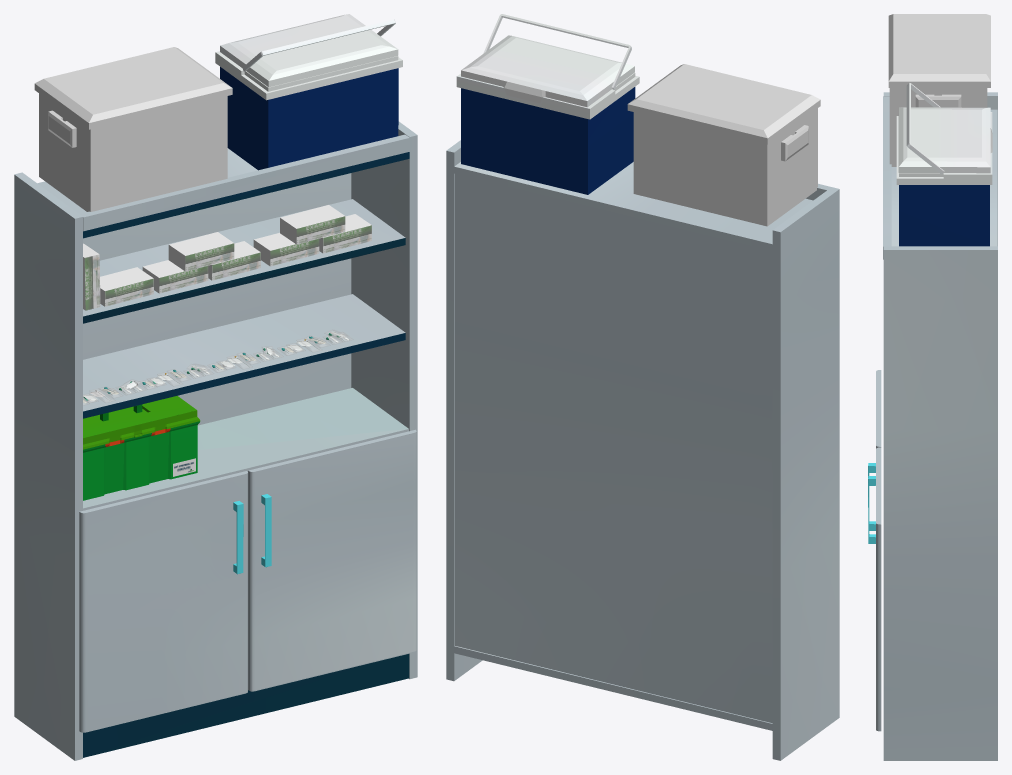
The model's file is RECEPCION DE MEDICAMENTOS estante verde .fbx.
3 renders of one model, left to right at view 1: azimuth 30°, elevation 25°; view 2: azimuth 150°, elevation 25°; view 3: azimuth 270°, elevation 25°, orthographic. The views are drawn at different scales.
Parts seen in each view (by area): view 1: Laboratory_closet_1.001, Cubo.034, Cubo.001, Cubo.002, Caja de sala de cirugias.002, Caja de sala de cirugias.003, Cube.143, Cube.002, Cube.145, Cube.001, Cube.141, Cube.146 (+2 smaller); view 2: Laboratory_closet_1.001, Cubo.034, Cubo.001, Cubo.002; view 3: Laboratory_closet_1.001, Cubo.034, Cubo.002, Cubo.001.
Part boxes in pixels (x1,y1,x2,y2): Laboratory_closet_1.001: (14,121,417,760); Cubo.034: (215,14,402,170); Cubo.001: (39,93,227,211); Cubo.002: (34,47,232,129); Caja de sala de cirugias.002: (83,421,199,500); Caja de sala de cirugias.003: (83,396,200,449); Cube.143: (168,232,234,271); Cube.002: (280,205,345,244); Cube.145: (100,267,153,306); Cube.001: (253,232,319,266); Cube.141: (142,260,208,293); Cube.146: (319,214,371,253); Laboratory_closet_1.001: (446,140,839,760); Cubo.034: (456,14,639,194); Cubo.001: (633,108,817,226); Cubo.002: (627,64,820,144); Laboratory_closet_1.001: (868,92,997,760); Cubo.034: (896,82,992,246); Cubo.002: (888,14,990,87); Cubo.001: (889,88,987,166).
Size of the model in its own units: 138 by 249 by 47.84.
